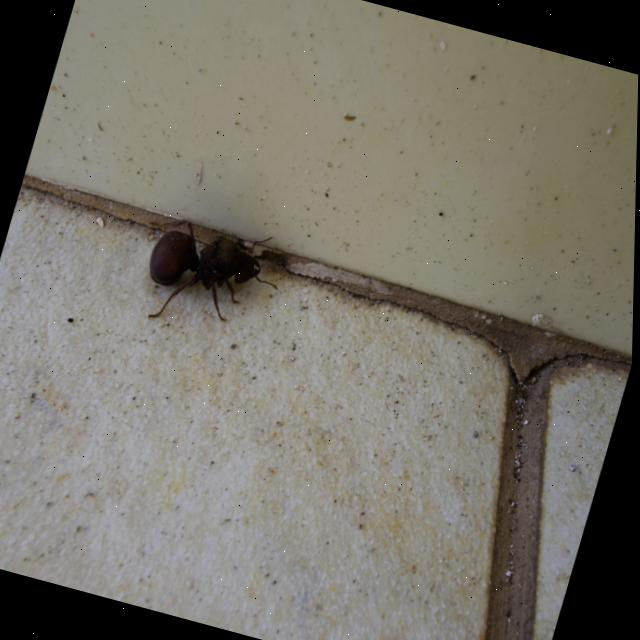Alive-Female-Dealate: (124, 204, 293, 348)
